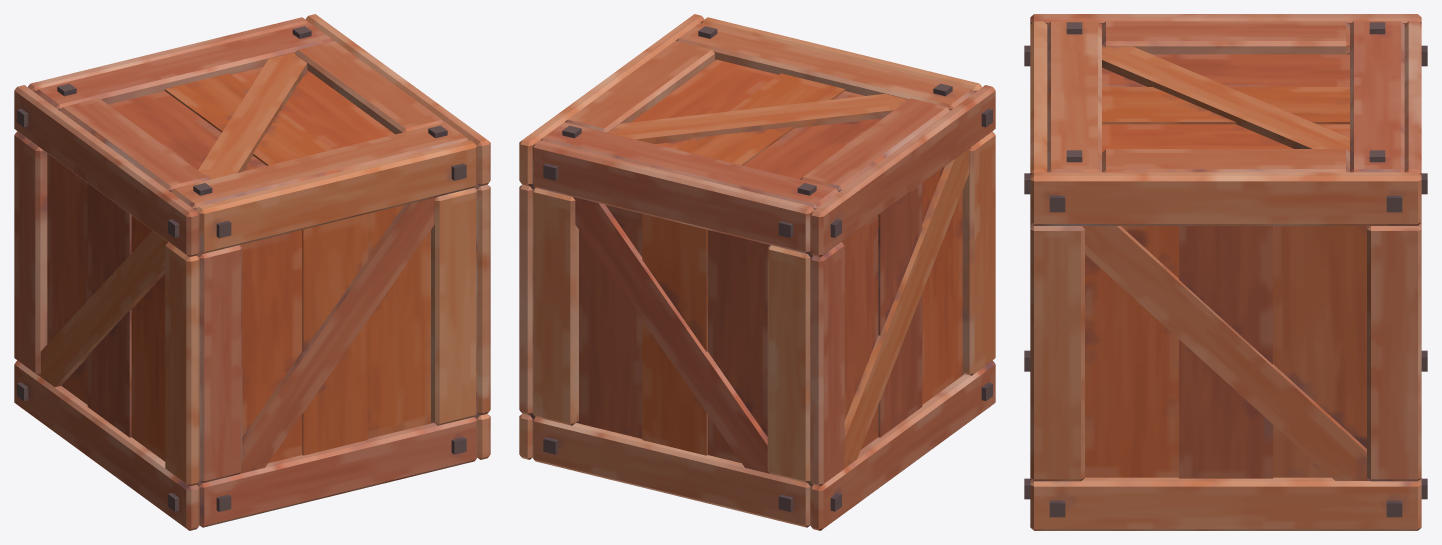
The model's file is crate.fbx.
3 views of the same model, side by side, from view 1: azimuth 30°, elevation 25°; view 2: azimuth 150°, elevation 25°; view 3: azimuth 270°, elevation 25° (orthographic). The views are drawn at different scales.
Visible parts, largest first — view 1: crate; view 2: crate; view 3: crate.
Part boxes in pixels (bbox=[...]): crate: bbox=[14, 14, 490, 530]; crate: bbox=[519, 14, 995, 530]; crate: bbox=[1024, 14, 1427, 530].
Bounding box in the file's own units: 3.09 × 3.05 × 3.09.
1 material, 1 textured.
